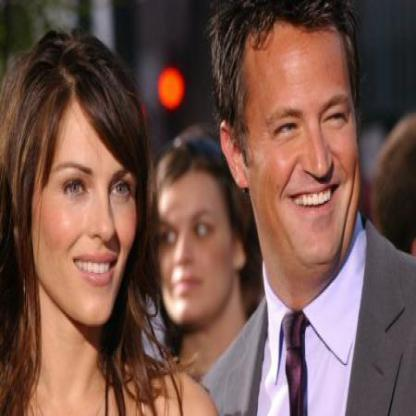face: (24, 54, 151, 330), (241, 1, 367, 274), (146, 138, 238, 327)
